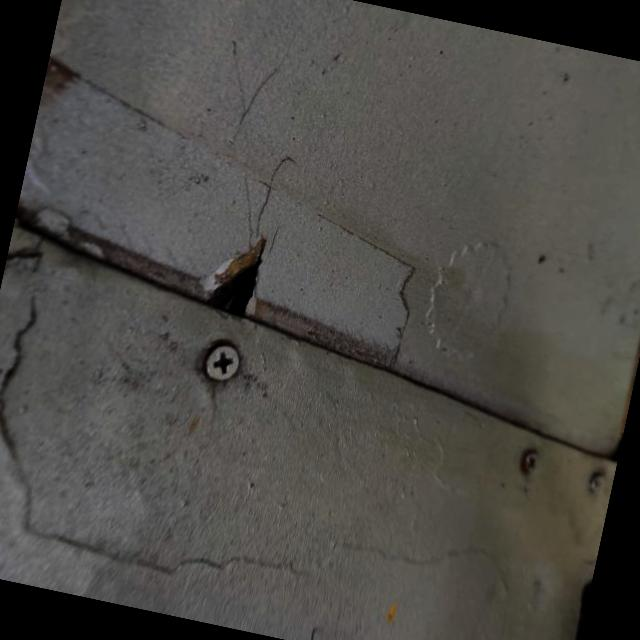crack: (168, 194, 298, 346)
